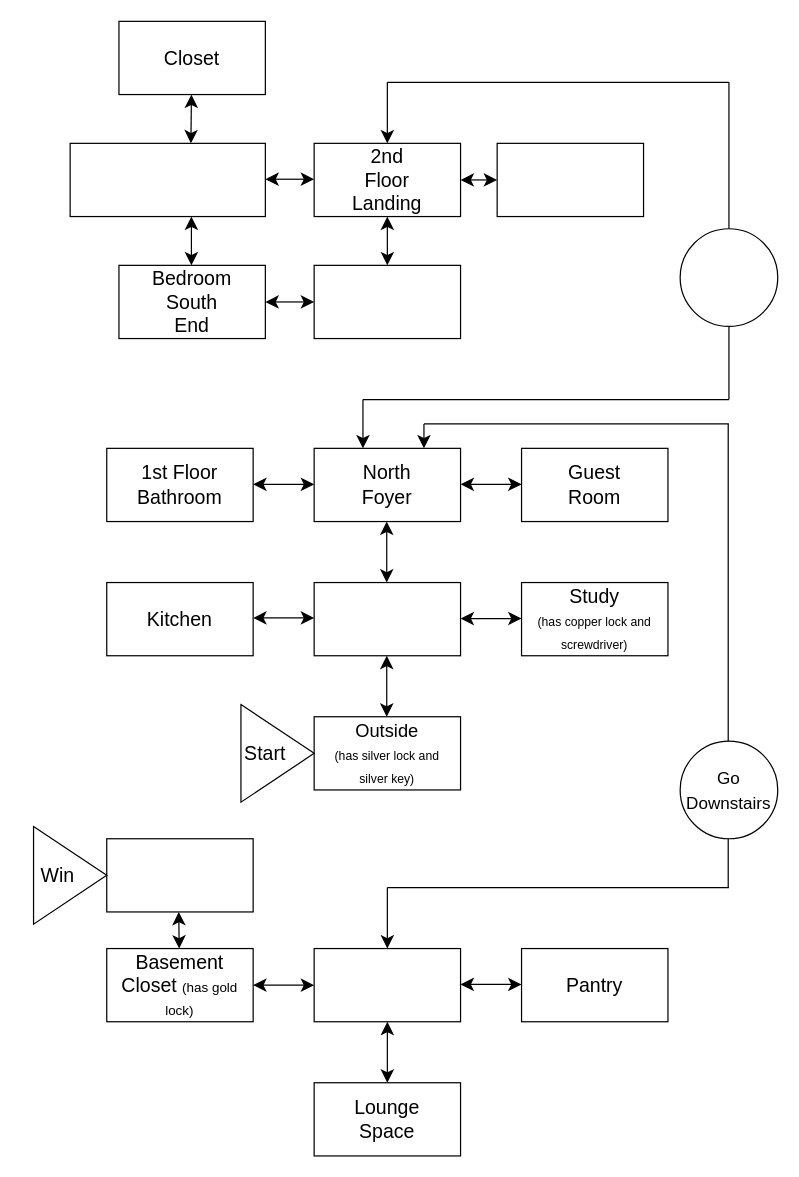
The diagram is 799 pixels wide and 1177 high, and some of its shapes have lost their labels. Here are the shapes that lost their labels. From the top down, the centre of each, then its label:
At point 167,179: "Bedroom North End (has loose floorboard and gold key)".
At point 570,179: "Library (has copper key)".
At point 728,277: "Go Upstairs".
At point 387,301: "2nd Floor Bathroom".
At point 387,618: "South Foyer".
At point 179,875: "Secret Room".
At point 387,984: "Basement Landing".
